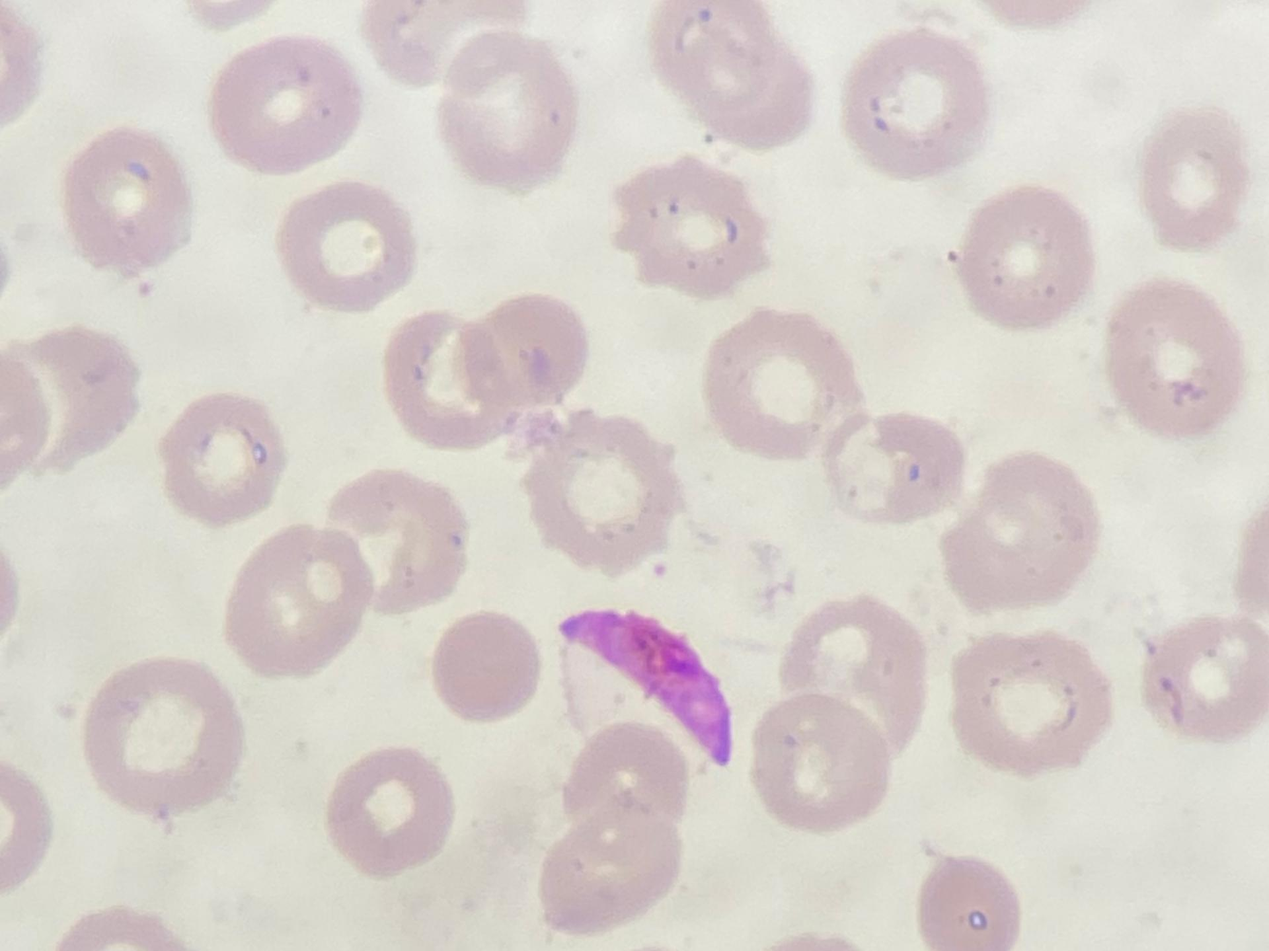Infected: (555, 609, 733, 776)
Uninfected: (81, 657, 244, 819), (519, 415, 683, 574), (940, 451, 1102, 610), (777, 597, 927, 755), (648, 1, 809, 147), (705, 307, 856, 459), (947, 632, 1109, 773), (225, 528, 376, 676), (1100, 280, 1243, 436), (611, 157, 769, 297), (437, 34, 580, 184), (841, 32, 989, 176), (211, 36, 362, 173), (330, 471, 471, 614), (8, 326, 138, 478), (954, 187, 1095, 327), (273, 179, 419, 313), (62, 127, 194, 274), (750, 697, 892, 829), (325, 748, 458, 879), (537, 816, 681, 936), (383, 311, 508, 447), (157, 392, 285, 521), (1138, 616, 1269, 740), (827, 413, 968, 527), (1137, 108, 1252, 245), (562, 724, 689, 830), (473, 295, 587, 410), (431, 611, 541, 719)
